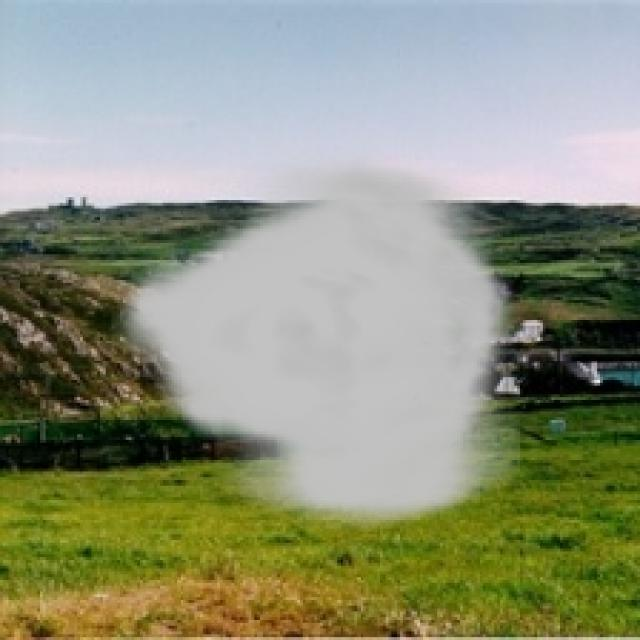Smoke: (111, 146, 520, 532)
